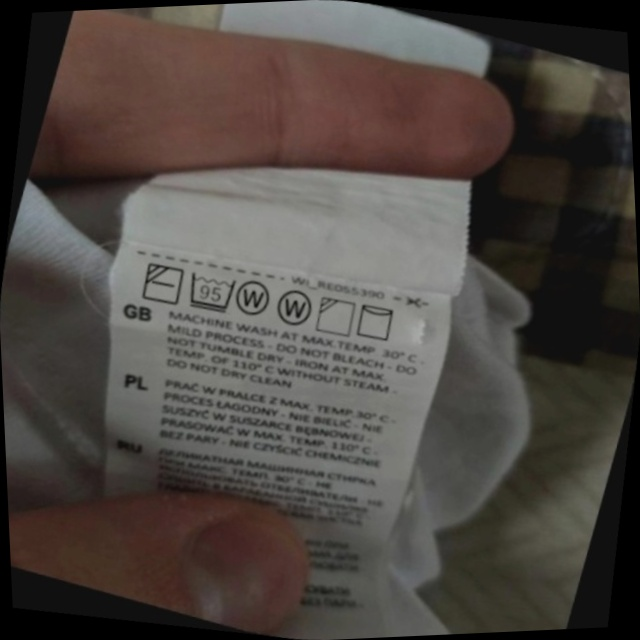95C: (174, 257, 249, 327)
dry_flat_in_shade: (129, 249, 197, 318)
line_dry: (343, 289, 409, 354)
shade_dry: (303, 284, 368, 349)
wet_clean: (263, 276, 326, 341), (224, 265, 286, 330)
